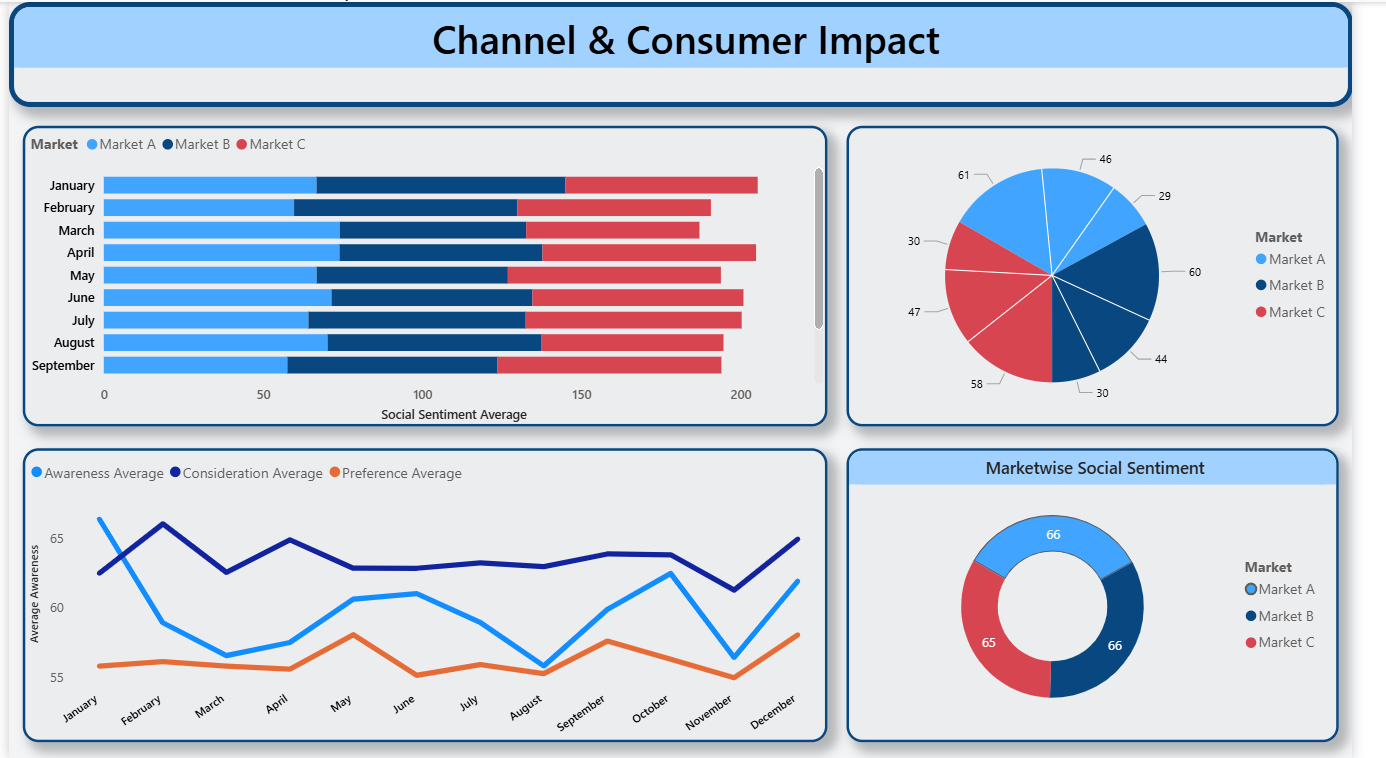

What the dashboard file says about the page in this screenshot:
{"tool":"powerbi","page":{"name":"Channel & Consumer Impact","canvas":[1280,720],"ordinal":2},"visuals":[{"type":"textbox","title":"Channel & Consumer Impact","box":[0,0,1280,100],"z":0},{"type":"pieChart","fields":{"Y":["Avg(Awareness.Awareness)","Avg(Awareness.Consideration)","Avg(Awareness.Preference)"],"Category":["Awareness.Market"]},"box":[797.5,117.5,468.8,286.2],"z":1000},{"type":"donutChart","title":"Marketwise Social Sentiment","fields":{"Category":["Awareness.Market"],"Y":["Avg(Awareness.SocialSentiment)"]},"box":[797.5,425,468.8,280],"z":2000},{"type":"barChart","fields":{"Category":["Date_Dimension.MonthName"],"Series":["Awareness.Market"],"Y":["Avg(Awareness.SocialSentiment)"]},"box":[13,118,766,286],"z":3000},{"type":"lineChart","fields":{"Y":["Avg(Awareness.Awareness)"],"Y2":["Avg(Awareness.Consideration)","Avg(Awareness.Preference)"],"Category":["Date_Dimension.MonthName"]},"box":[13,425,766,280],"z":4000}]}

Visuals, with their boxes in screenshot pixels (x1, y1, x2, y2), scaled from the page's 1280x720 canvas onto the 1386x758 screenshot:
"Channel & Consumer Impact" textbox: crop(0, 0, 1385, 105)
pieChart - Avg(Awareness.Awareness) x Avg(Awareness.Consideration): crop(864, 124, 1371, 425)
"Marketwise Social Sentiment" donutChart: crop(864, 447, 1371, 742)
barChart - Date_Dimension.MonthName x Awareness.Market: crop(14, 124, 844, 425)
lineChart - Avg(Awareness.Awareness) x Avg(Awareness.Consideration): crop(14, 447, 844, 742)
